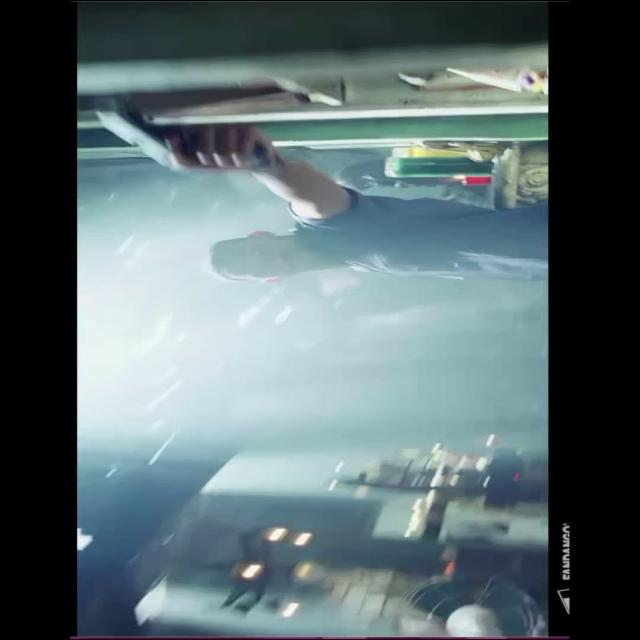weapons: (83, 90, 273, 182)
